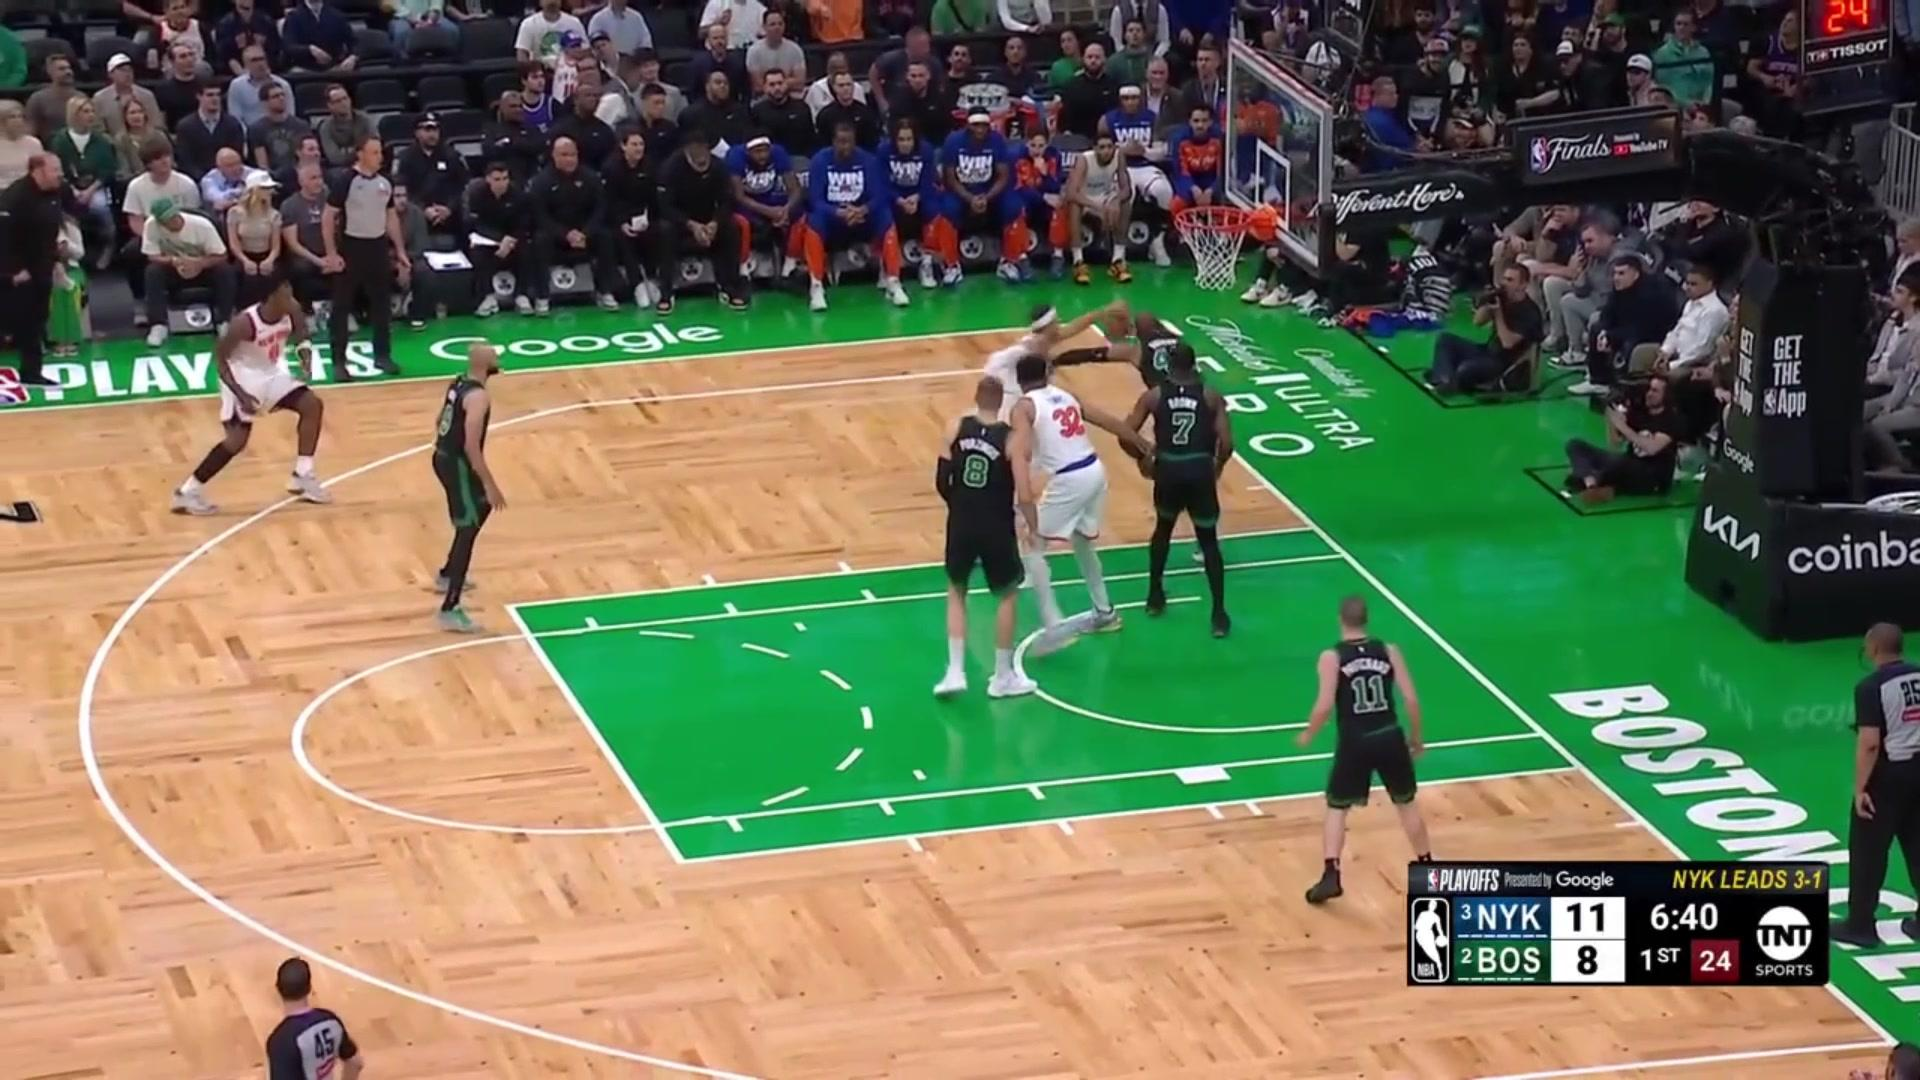no_foul: (992, 278, 1225, 502)
